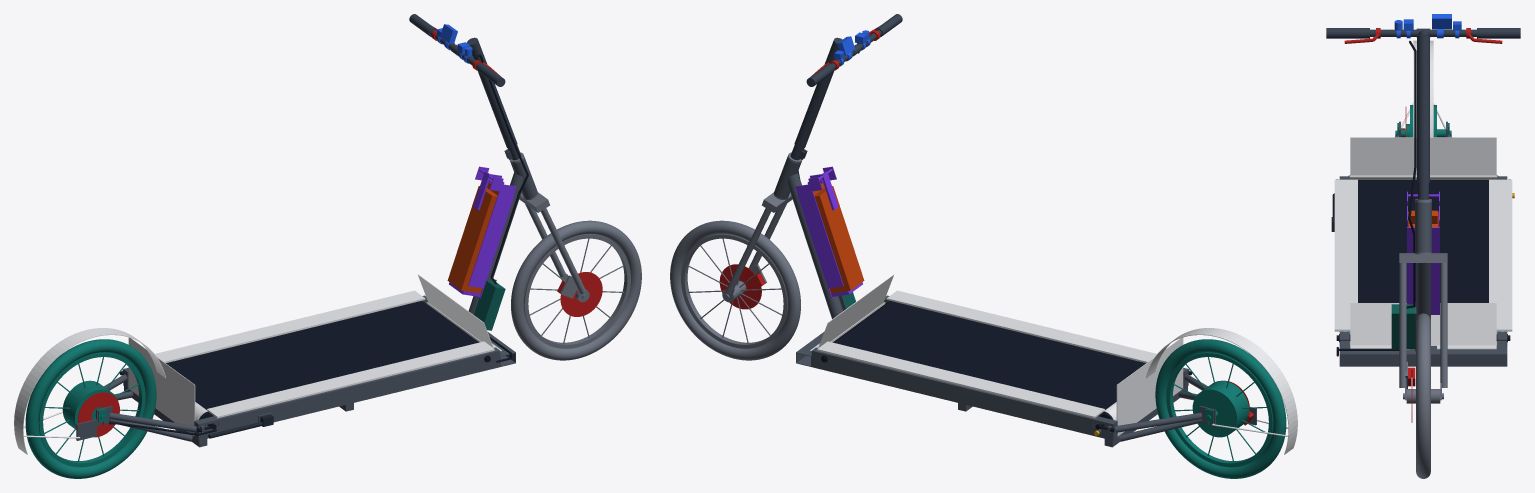
3 renders of one model, left to right at view 1: azimuth 30°, elevation 25°; view 2: azimuth 150°, elevation 25°; view 3: azimuth 270°, elevation 25°, orthographic. The views are drawn at different scales.
Visible parts, largest first — view 1: Belt and end rollers, Guards (heel, roller, side, toe, fender), Main frame, Front wheel, fork and headset, Rear wheel with 250 W geared hub motor, SwapCell receiver cradle, class V1, SwapCell pack (not in parts cost), Brakes with motor cut-off levers, Steering column, handlebar and grips, Wiring harness with fuse, Controller and walking logic board; view 2: Belt and end rollers, Guards (heel, roller, side, toe, fender), Main frame, Rear wheel with 250 W geared hub motor, Front wheel, fork and headset, SwapCell receiver cradle, class V1, SwapCell pack (not in parts cost), Steering column, handlebar and grips, Brakes with motor cut-off levers; view 3: Guards (heel, roller, side, toe, fender), Belt and end rollers, Front wheel, fork and headset, Main frame, Steering column, handlebar and grips, SwapCell receiver cradle, class V1, Wiring harness with fuse, Controller and walking logic board, Display, selector, lanyard, key switch, Brakes with motor cut-off levers, Rear wheel with 250 W geared hub motor.
Boxes of the visible parts, x1=… form: Belt and end rollers: x1=119, y1=301, x2=490, y2=432; Guards (heel, roller, side, toe, fender): x1=14, y1=274, x2=501, y2=454; Main frame: x1=76, y1=157, x2=537, y2=447; Front wheel, fork and headset: x1=509, y1=152, x2=641, y2=360; Rear wheel with 250 W geared hub motor: x1=25, y1=339, x2=156, y2=478; SwapCell receiver cradle, class V1: x1=449, y1=166, x2=516, y2=298; SwapCell pack (not in parts cost): x1=447, y1=183, x2=498, y2=293; Brakes with motor cut-off levers: x1=75, y1=26, x2=602, y2=437; Steering column, handlebar and grips: x1=409, y1=14, x2=521, y2=160; Wiring harness with fuse: x1=108, y1=54, x2=528, y2=435; Controller and walking logic board: x1=474, y1=280, x2=505, y2=330; Belt and end rollers: x1=821, y1=301, x2=1192, y2=432; Guards (heel, roller, side, toe, fender): x1=810, y1=274, x2=1297, y2=454; Main frame: x1=774, y1=157, x2=1256, y2=447; Rear wheel with 250 W geared hub motor: x1=1155, y1=339, x2=1286, y2=478; Front wheel, fork and headset: x1=670, y1=152, x2=802, y2=360; SwapCell receiver cradle, class V1: x1=795, y1=166, x2=862, y2=298; SwapCell pack (not in parts cost): x1=813, y1=183, x2=864, y2=293; Steering column, handlebar and grips: x1=790, y1=14, x2=902, y2=160; Brakes with motor cut-off levers: x1=719, y1=26, x2=1253, y2=425; Guards (heel, roller, side, toe, fender): x1=1334, y1=40, x2=1512, y2=349; Belt and end rollers: x1=1336, y1=179, x2=1510, y2=342; Front wheel, fork and headset: x1=1399, y1=199, x2=1447, y2=478; Main frame: x1=1339, y1=121, x2=1507, y2=366; Steering column, handlebar and grips: x1=1326, y1=28, x2=1520, y2=199; SwapCell receiver cradle, class V1: x1=1407, y1=191, x2=1439, y2=314; Wiring harness with fuse: x1=1336, y1=41, x2=1416, y2=356; Controller and walking logic board: x1=1391, y1=304, x2=1415, y2=348; Display, selector, lanyard, key switch: x1=1394, y1=14, x2=1461, y2=38; Brakes with motor cut-off levers: x1=1344, y1=28, x2=1502, y2=422; Rear wheel with 250 W geared hub motor: x1=1395, y1=105, x2=1451, y2=137.
Bounding box in the file's own units: 2.38 × 1.29 × 0.58.
